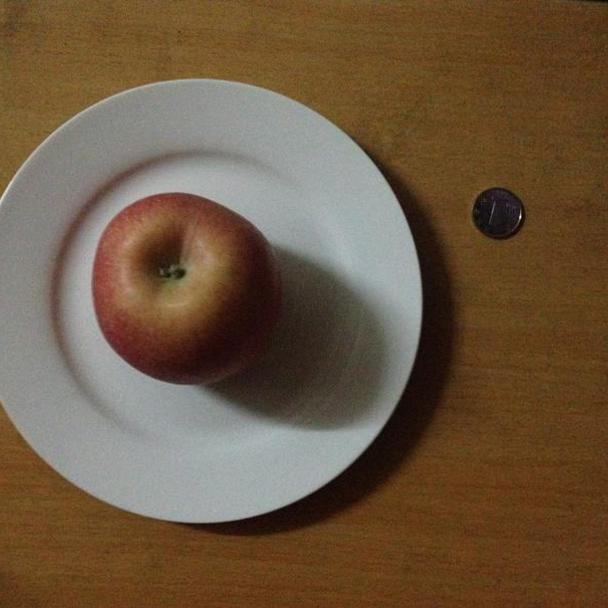apple: (92, 193, 284, 387)
